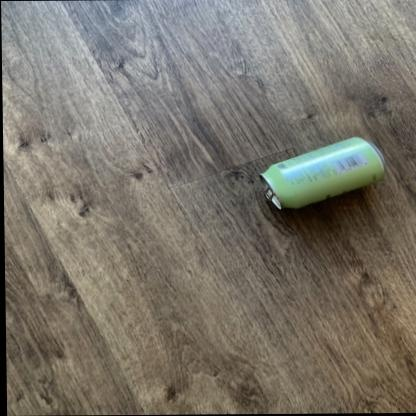trash: (261, 137, 383, 208)
